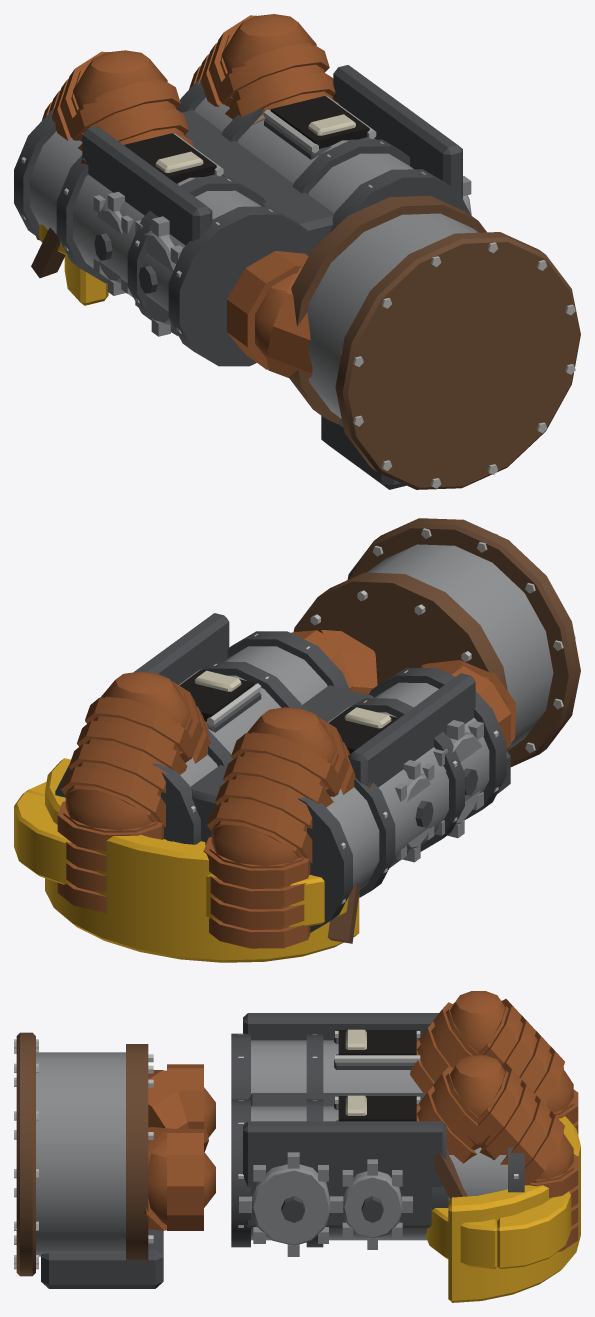
The model's file is offshore-pump.glb.
3 views of the same model, one above another, from view 1: azimuth 30°, elevation 25°; view 2: azimuth 150°, elevation 25°; view 3: azimuth 270°, elevation 25° (orthographic). The views are drawn at different scales.
Parts seen in each view (by area): view 1: body, anim_bob_a, anim_bob_b; view 2: body, anim_bob_b, anim_bob_a; view 3: body, anim_bob_a, anim_bob_b.
Boxes of the visible parts, x1,y1,x2,y2 form: body: (14,14,580,489); anim_bob_a: (155,151,203,172); anim_bob_b: (308,114,355,135); body: (14,518,580,962); anim_bob_b: (194,670,241,691); anim_bob_a: (344,707,391,728); body: (14,991,580,1302); anim_bob_a: (345,1029,366,1049); anim_bob_b: (345,1095,366,1115).
Bounding box in the file's own units: 1.28 × 0.9521 × 2.08.
